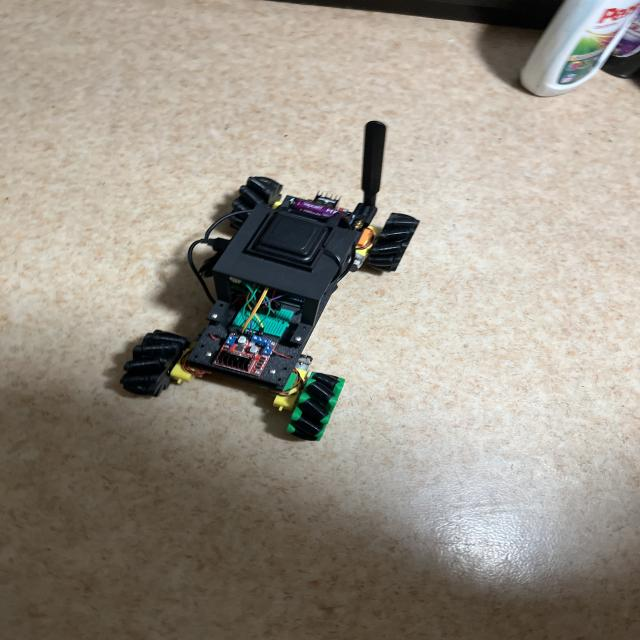robot: (120, 121, 419, 440)
